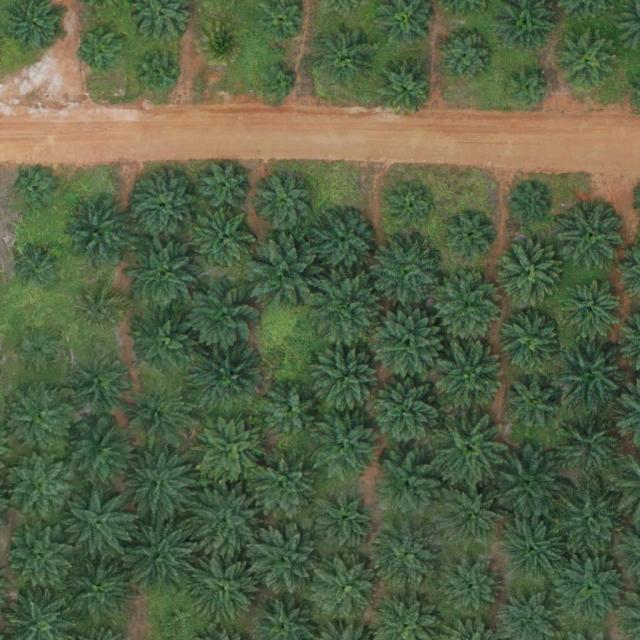Healthy: (59, 195, 137, 274), (60, 486, 138, 565), (126, 233, 204, 312), (185, 277, 263, 356), (246, 235, 324, 314), (310, 272, 388, 351), (369, 375, 447, 454), (432, 339, 510, 418), (431, 411, 509, 490), (491, 446, 569, 525), (551, 333, 629, 412), (551, 407, 629, 486), (551, 480, 629, 559), (552, 549, 630, 628), (312, 411, 383, 482), (371, 452, 442, 523), (371, 524, 442, 595), (6, 380, 76, 451), (7, 452, 77, 523), (131, 309, 201, 380), (193, 342, 263, 413), (192, 485, 262, 556), (247, 451, 317, 522), (314, 346, 384, 417), (373, 307, 443, 378), (439, 481, 509, 552), (312, 554, 382, 625), (122, 522, 193, 592), (65, 418, 135, 488), (123, 382, 193, 452), (125, 452, 195, 522), (196, 417, 266, 487), (308, 485, 378, 555), (370, 235, 440, 305), (434, 272, 504, 342), (249, 524, 319, 594), (189, 552, 259, 622), (63, 555, 133, 625), (6, 525, 76, 595), (557, 29, 620, 92), (315, 25, 378, 88), (499, 241, 562, 304), (559, 279, 622, 342), (374, 57, 437, 119), (132, 173, 194, 236), (312, 212, 375, 274), (499, 313, 561, 376), (503, 372, 565, 435), (563, 204, 625, 267), (502, 517, 565, 579), (194, 208, 256, 270), (439, 559, 501, 621), (440, 29, 495, 84), (74, 354, 129, 409), (197, 159, 252, 214), (265, 384, 320, 439), (256, 175, 310, 230)
Small: (388, 185, 435, 233), (506, 66, 553, 114), (136, 50, 183, 98), (78, 287, 125, 334), (449, 213, 496, 260), (79, 25, 126, 72), (12, 166, 59, 213), (14, 247, 61, 294), (17, 329, 64, 376), (512, 184, 551, 224), (261, 65, 300, 104)
Yellow: (199, 20, 246, 67)
